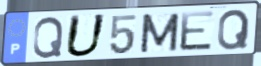5: (108, 13, 139, 55)
E: (179, 9, 216, 53)
M: (138, 12, 182, 55)
Q: (215, 8, 252, 52), (31, 15, 66, 60)
U: (62, 13, 109, 59)
